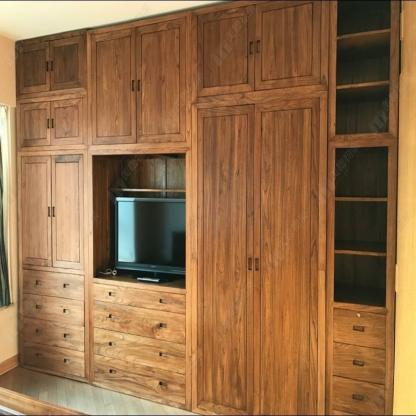Closet: (16, 0, 405, 415)
